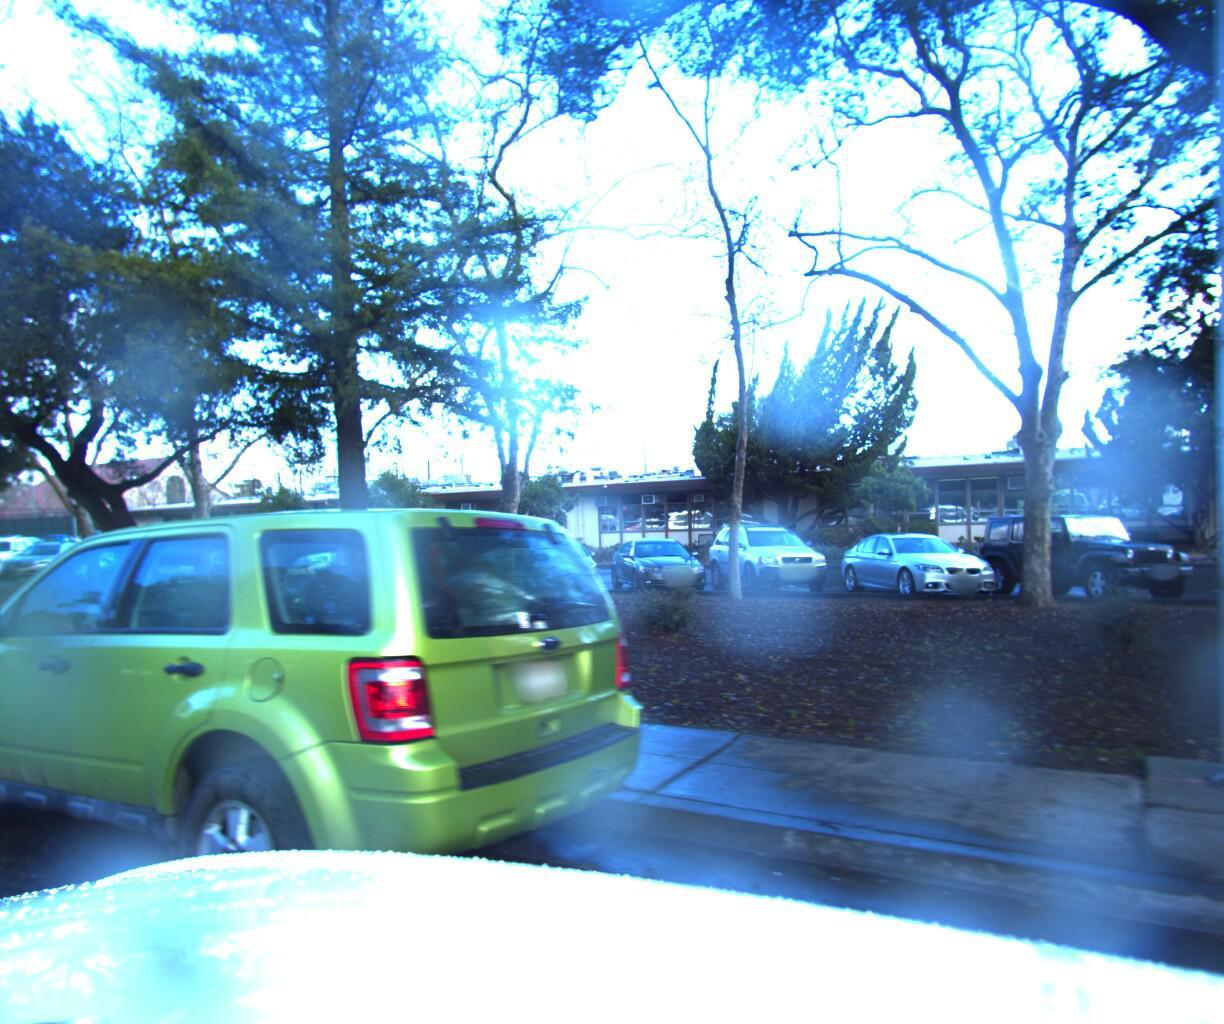car: (0, 501, 668, 1024)
